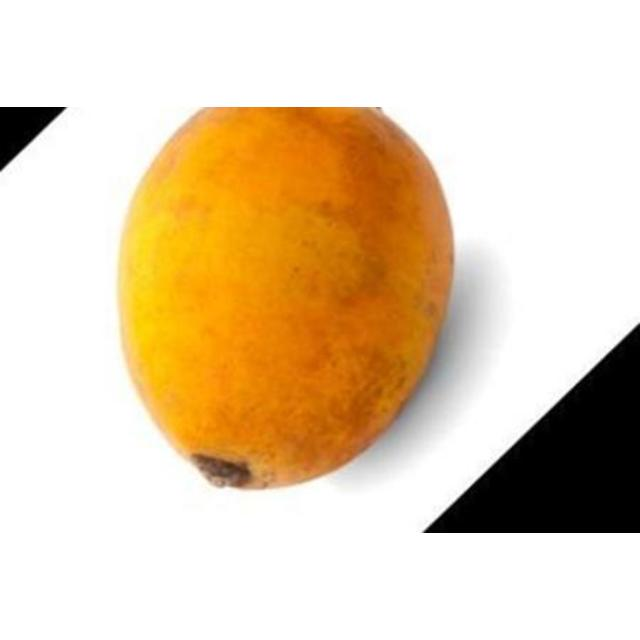good: (115, 107, 457, 492)
